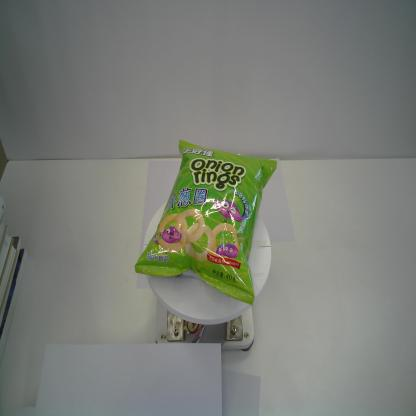Puffed Food: (133, 140, 279, 306)
